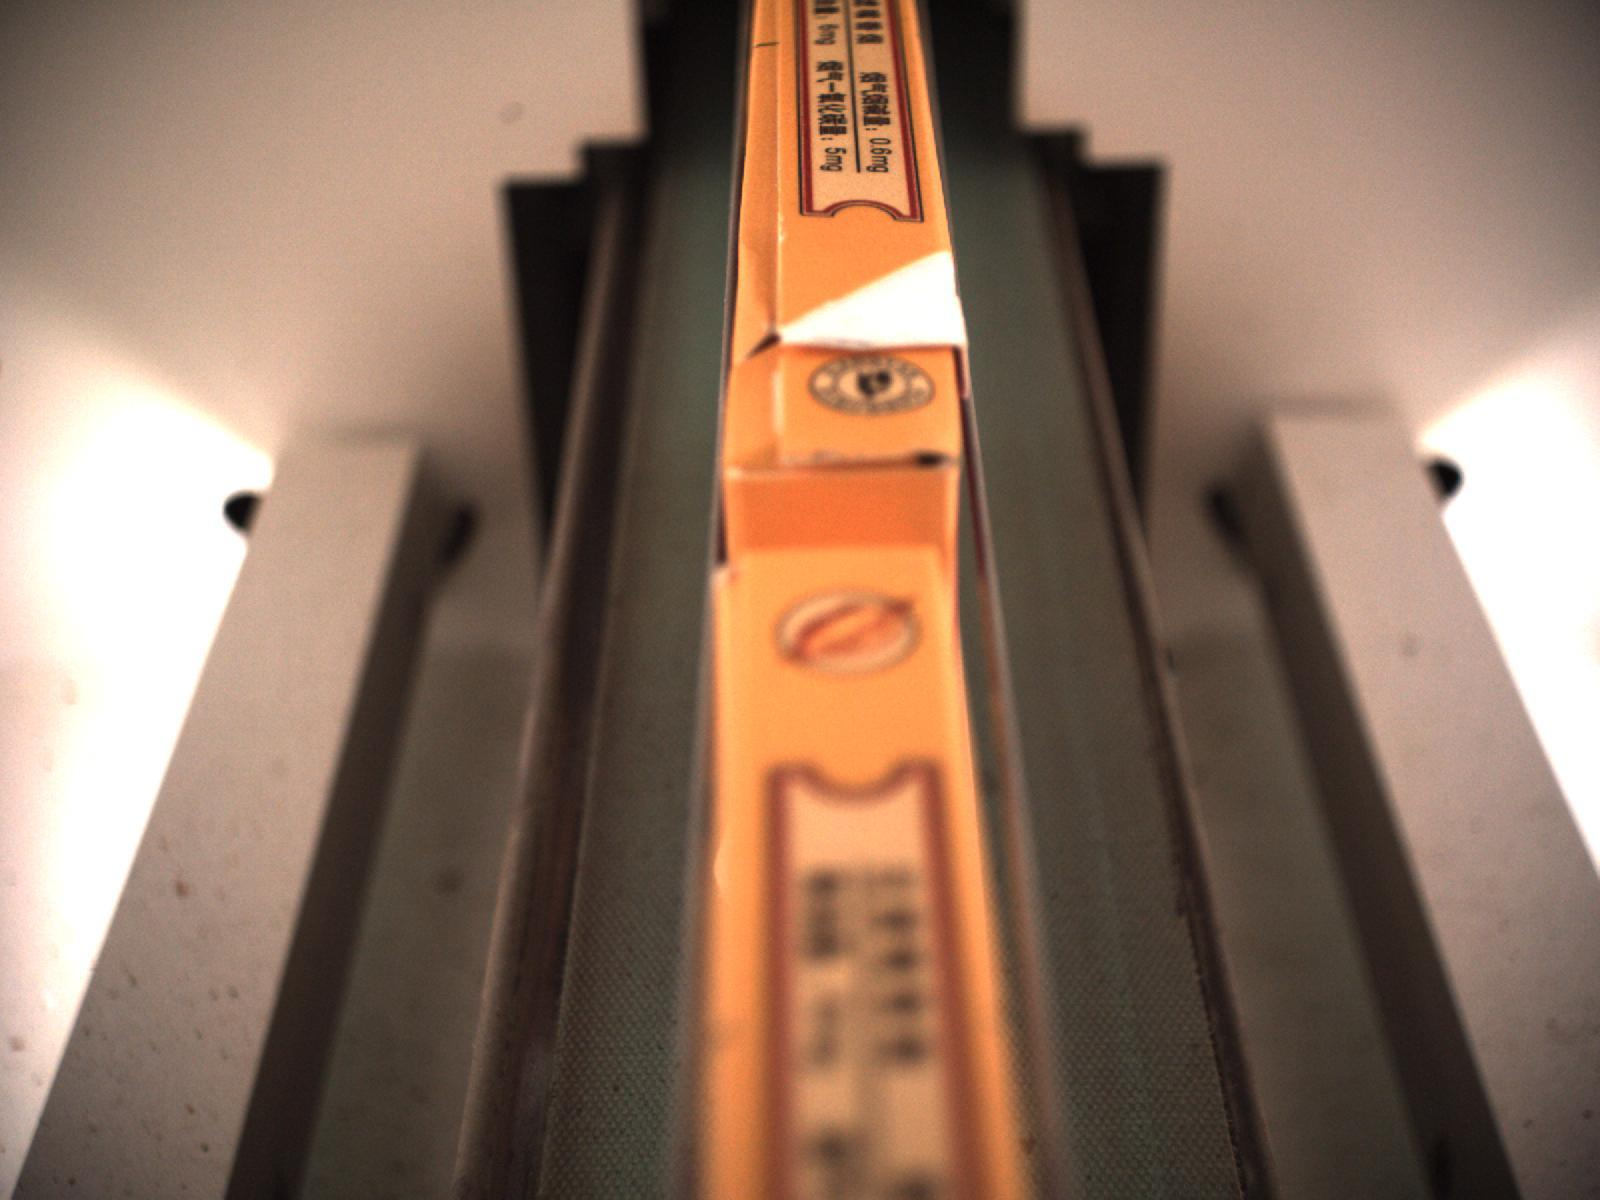frame: (780, 247, 968, 355)
headDamage_upper_2: (733, 353, 961, 481)
skewed_upper_2: (738, 32, 803, 359)
